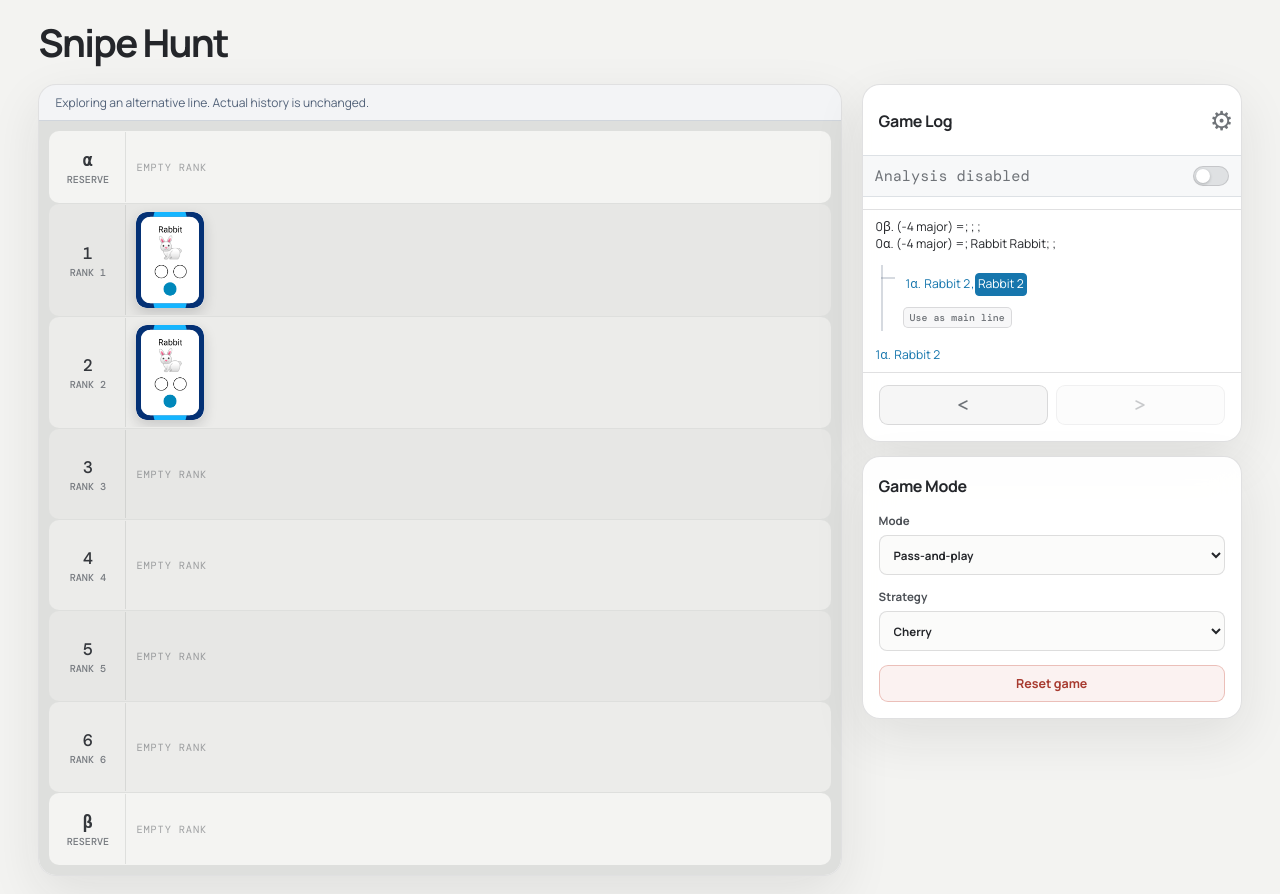
Scenario: presentation contract › confirms before replacing the main history with an alternative line
Click the button "Use as main line".
click(957, 317)  # box [903,307,1012,328]
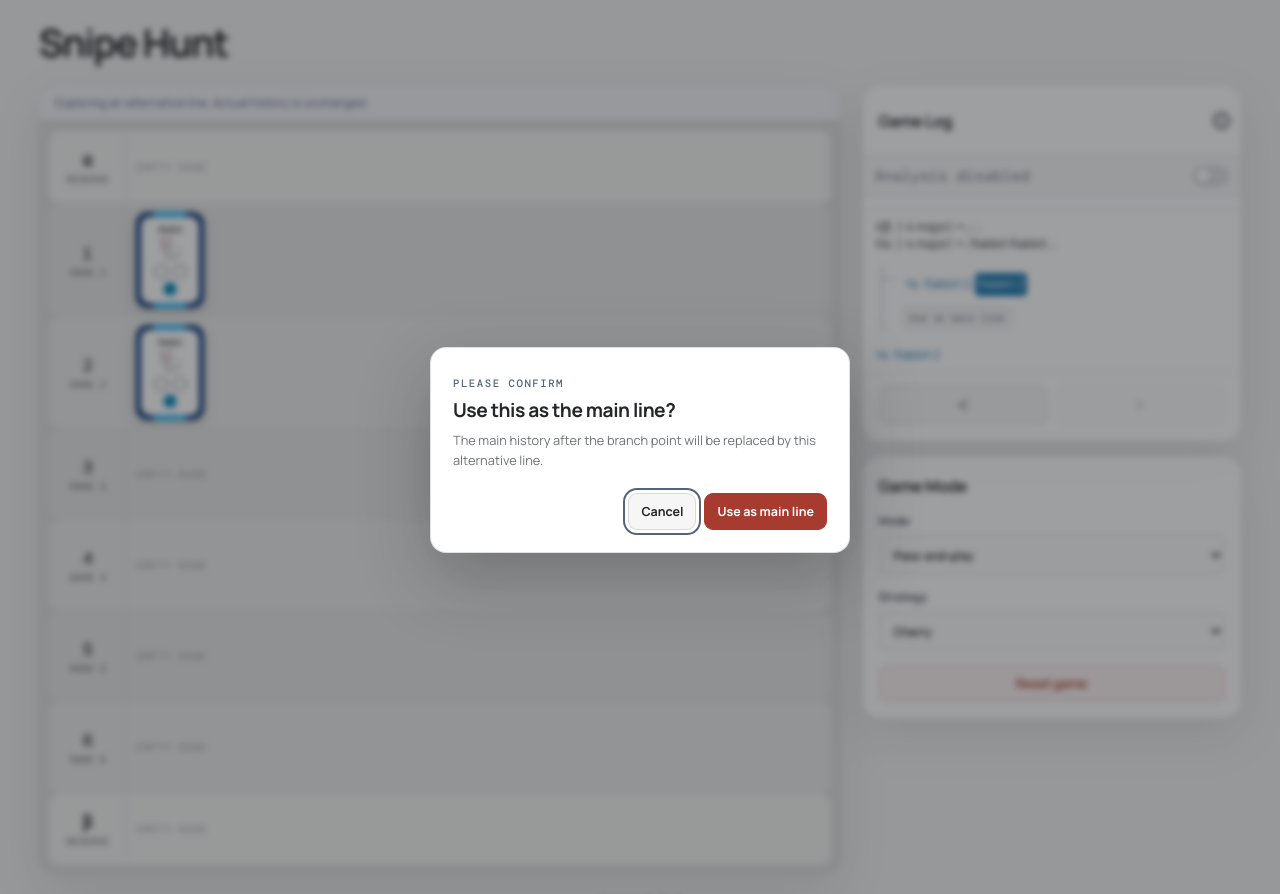
Expected: the dialog shows "Use this as the main line?", [453,397,675,423]
Expected: the dialog shows "The main history after the branch point will be replaced by this alternative line.", [453,431,816,469]
Click the button "Cancel".
click(662, 511)  # box [628,493,696,530]
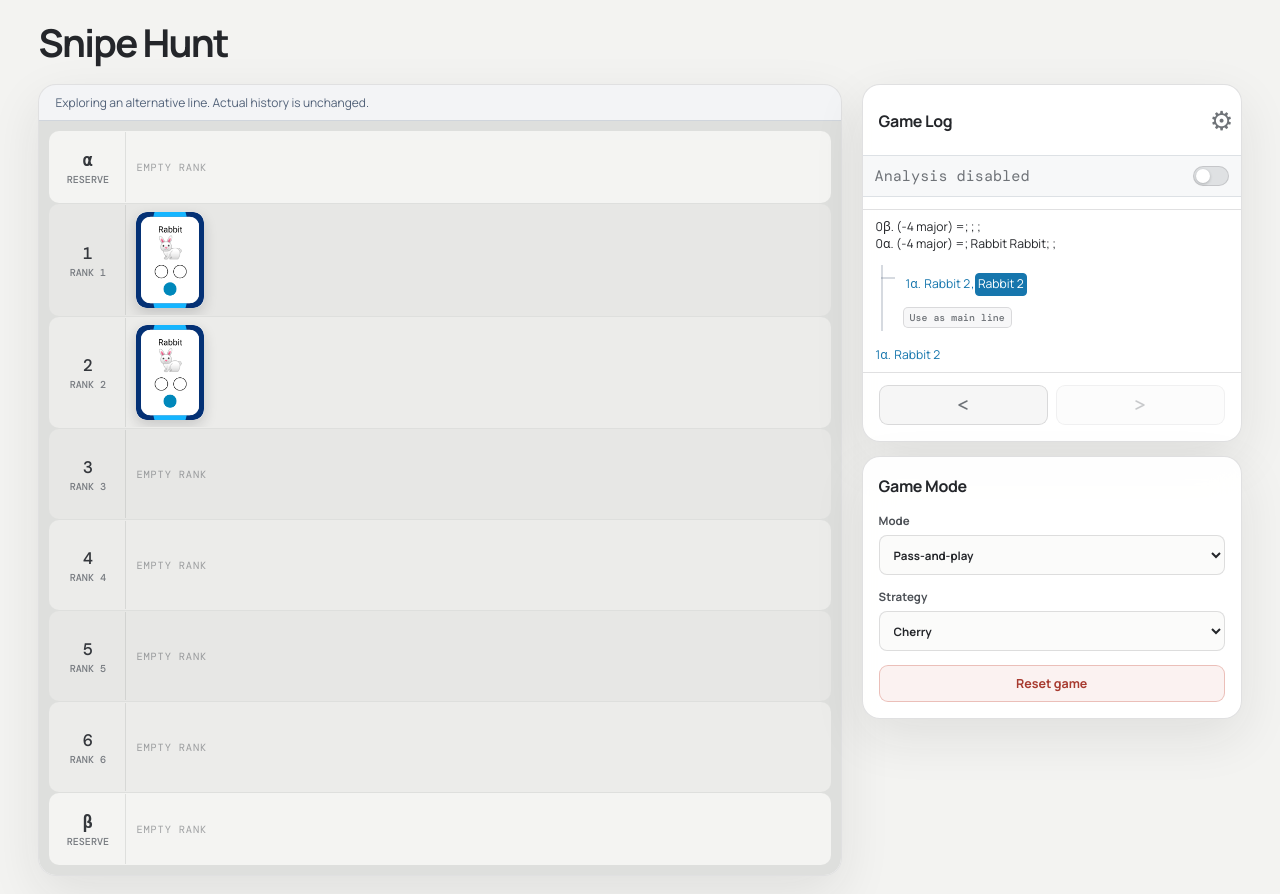
Expected: the list named "Alternative Line" is shown, [906,273,1027,296]
Click the button "Use as main line".
click(957, 317)  # box [903,307,1012,328]
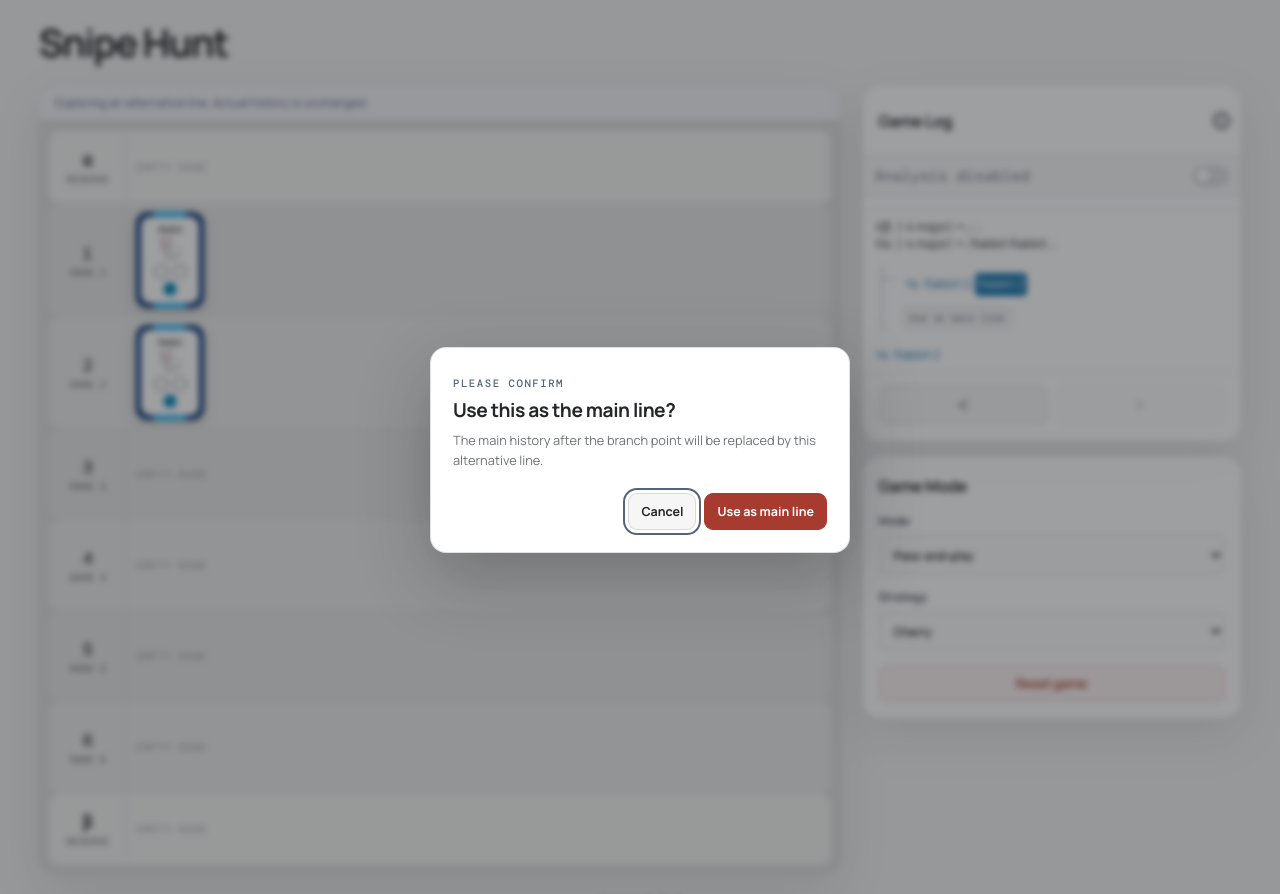
Click the button "Use as main line".
click(766, 511)  # box [704,493,827,530]
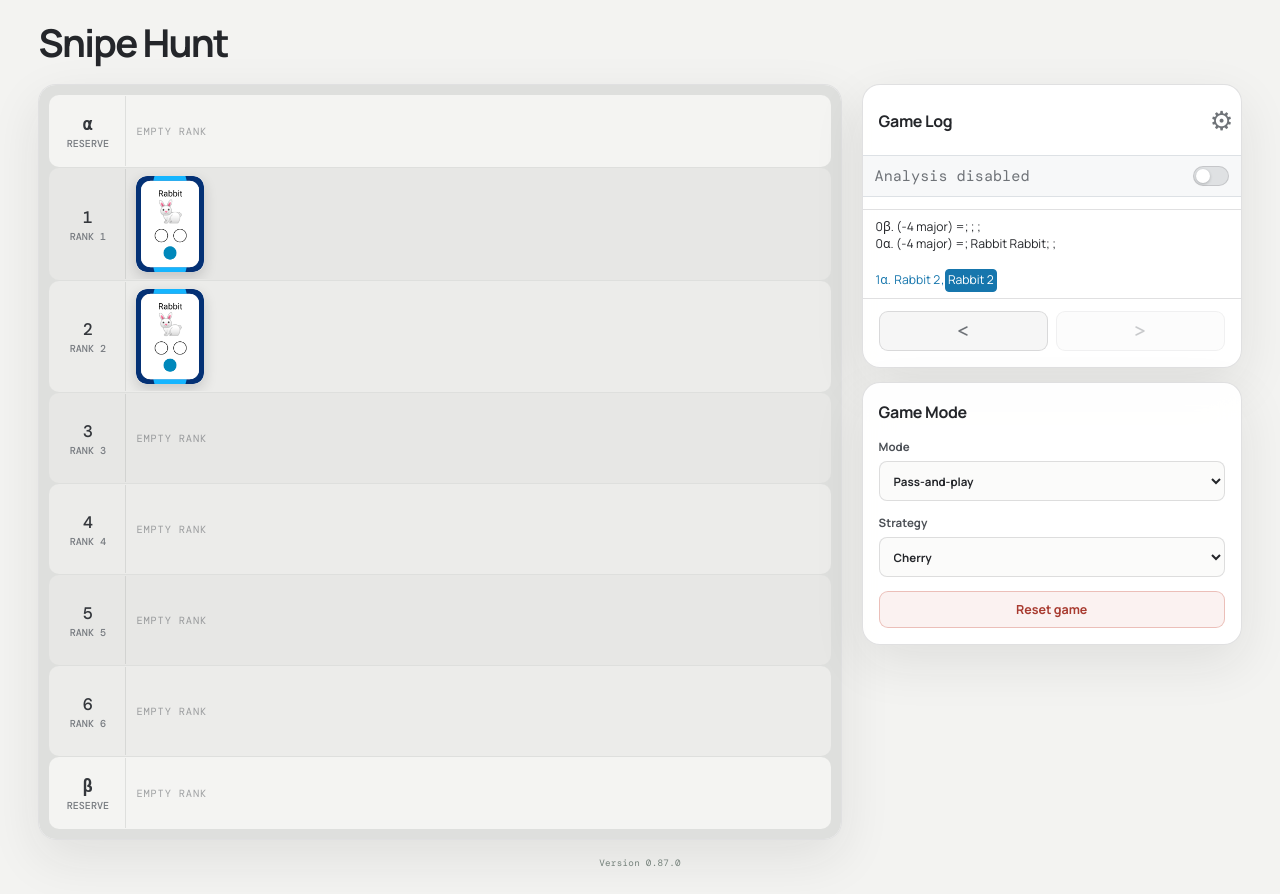
Expected: the message "alternative line" is gone
